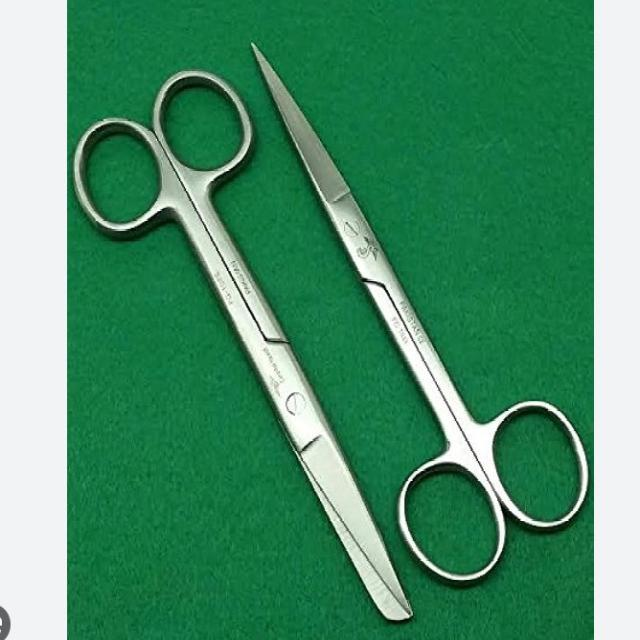Straight Mayo: (76, 59, 417, 630), (244, 39, 594, 587)
